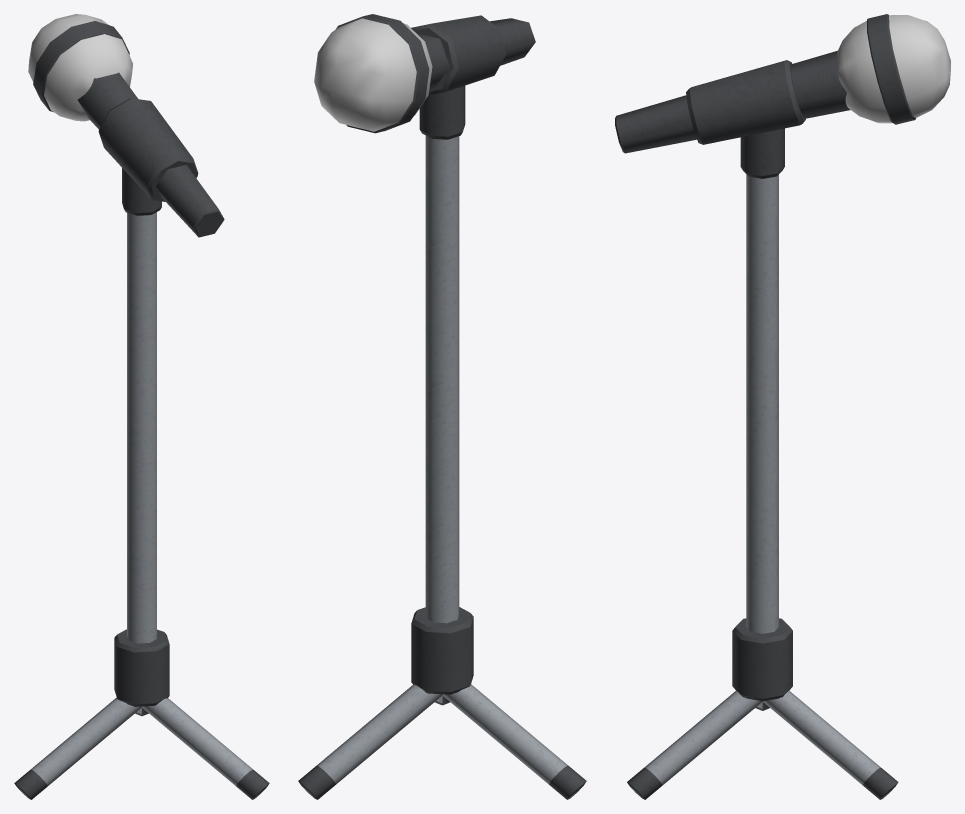
Rendered from micro.obj.
The picture shows the model from 3 angles, left to right: view 1: azimuth 30°, elevation 25°; view 2: azimuth 150°, elevation 25°; view 3: azimuth 270°, elevation 25°; orthographic projection. The views are drawn at different scales.
Parts seen in each view (by area): view 1: standmic00__StandMic00, standmic00__StandMic02, standmic00__StandMic01; view 2: standmic00__StandMic00, standmic00__StandMic02, standmic00__StandMic01; view 3: standmic00__StandMic02, standmic00__StandMic00, standmic00__StandMic01.
Boxes of the visible parts, bbox=[...] form: standmic00__StandMic00: bbox=[31, 212, 252, 785]; standmic00__StandMic02: bbox=[14, 21, 269, 799]; standmic00__StandMic01: bbox=[28, 14, 132, 121]; standmic00__StandMic00: bbox=[317, 136, 567, 784]; standmic00__StandMic02: bbox=[298, 14, 586, 799]; standmic00__StandMic01: bbox=[314, 18, 432, 131]; standmic00__StandMic02: bbox=[615, 14, 915, 799]; standmic00__StandMic00: bbox=[644, 174, 880, 784]; standmic00__StandMic01: bbox=[837, 15, 950, 123].
Size of the model in its own units: 0.0497 by 0.1726 by 0.0701.
